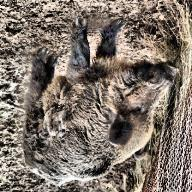boar: (22, 16, 180, 187)
